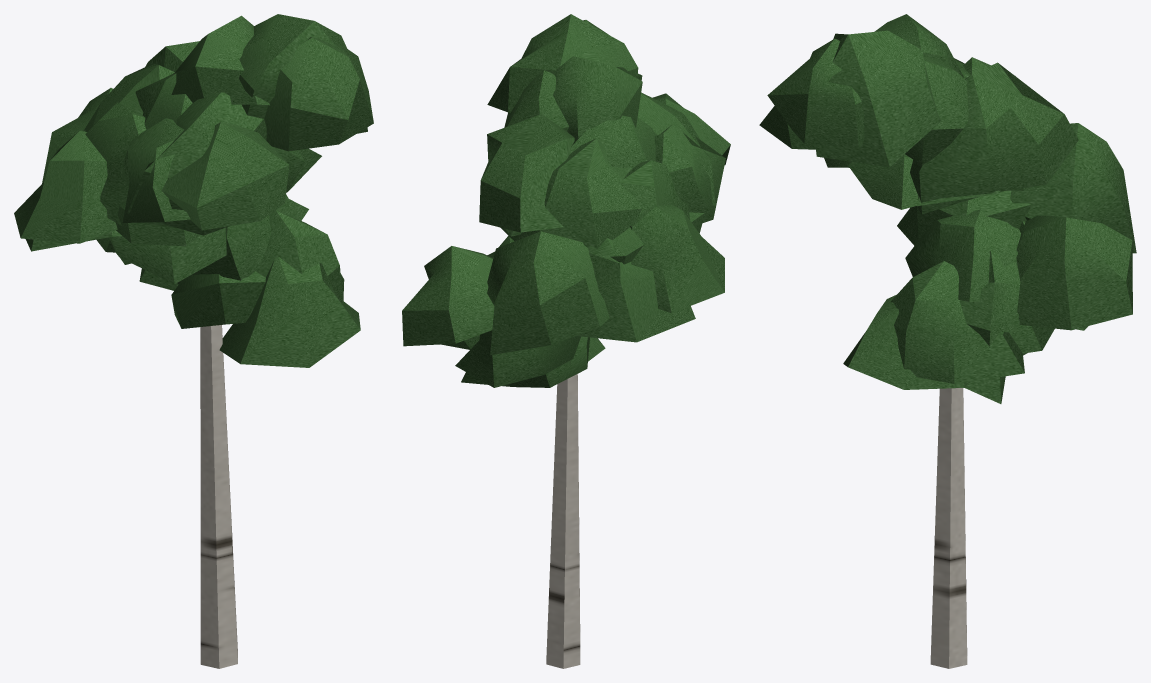
Rendered from ambient_tree_14.glb.
The picture shows the model from 3 angles, left to right: view 1: azimuth 30°, elevation 25°; view 2: azimuth 150°, elevation 25°; view 3: azimuth 270°, elevation 25°; orthographic projection. The views are drawn at different scales.
Visible parts, largest first — view 1: ambient_tree_14; view 2: ambient_tree_14; view 3: ambient_tree_14.
Part boxes in pixels (box(x1,y1,x2,y2)): ambient_tree_14: box(14, 14, 373, 668); ambient_tree_14: box(402, 14, 730, 668); ambient_tree_14: box(759, 14, 1136, 668).
Bounding box in the file's own units: 5.69 × 11.45 × 6.06.
2 materials, 2 textured.
